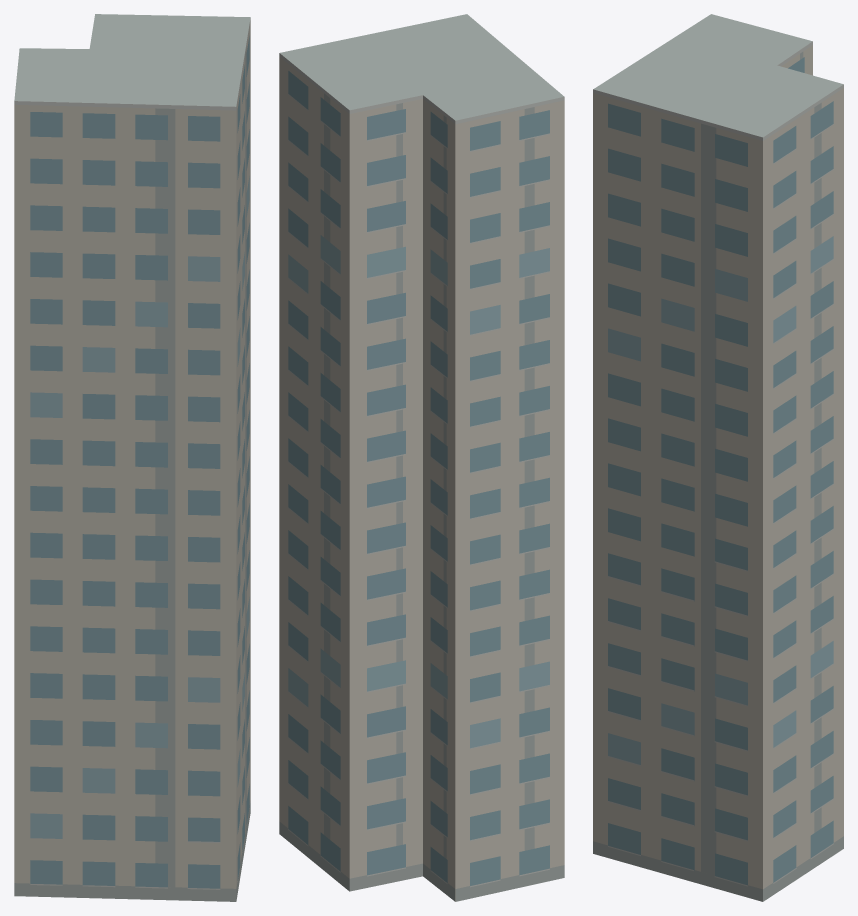
File: survey-upis-32953638.glb
The picture shows the model from 3 angles, left to right: view 1: azimuth 30°, elevation 25°; view 2: azimuth 150°, elevation 25°; view 3: azimuth 270°, elevation 25°; orthographic projection. The views are drawn at different scales.
Parts seen in each view (by area): view 1: survey-upis-32953638.tmp; view 2: survey-upis-32953638.tmp; view 3: survey-upis-32953638.tmp.
Part boxes in pixels (x1=…): survey-upis-32953638.tmp: x1=14, y1=14, x2=250, y2=901; survey-upis-32953638.tmp: x1=279, y1=14, x2=564, y2=901; survey-upis-32953638.tmp: x1=593, y1=14, x2=843, y2=901.
Bounding box in the file's own units: 17.97 × 51.85 × 15.42.
